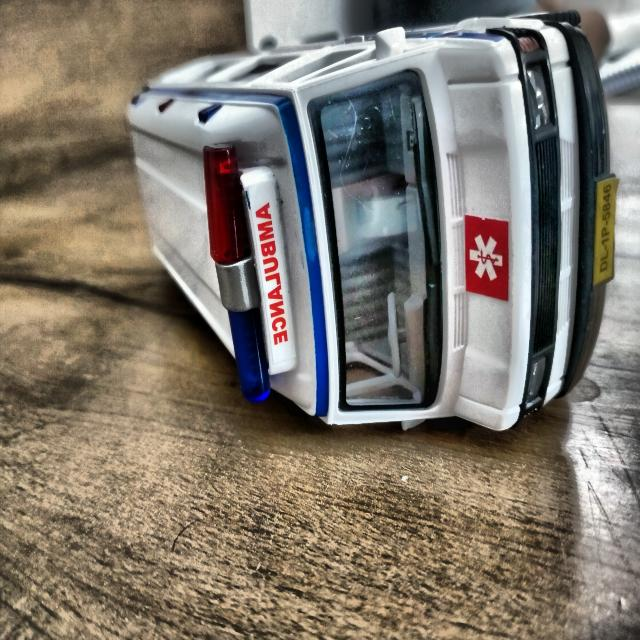Ambulance: (86, 13, 621, 451)
